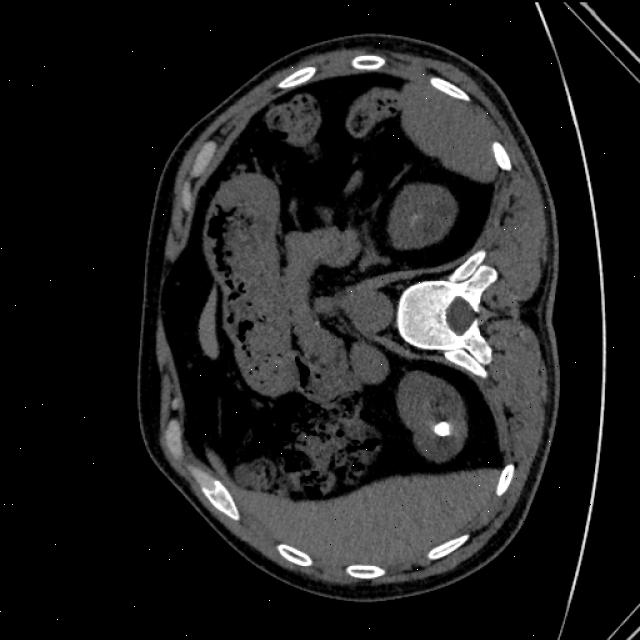kidneystone: (434, 420, 452, 436)
